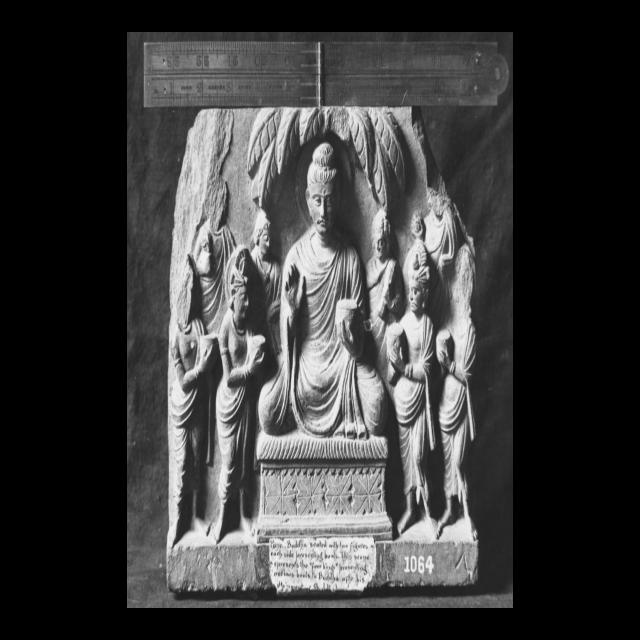buddha-sitting: (256, 142, 392, 540)
